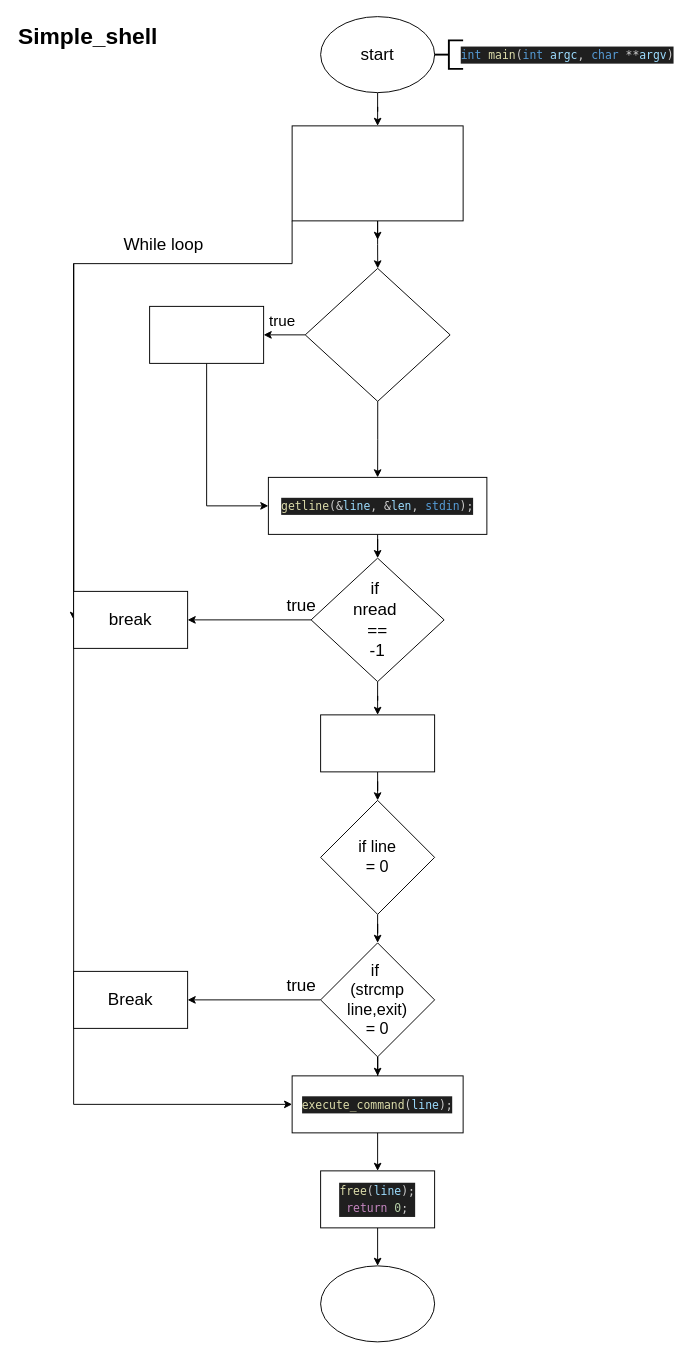
Some shapes in this 690 by 1359 pixel diagram are drawn without their labels. The shapes that lost their labels are listed below. From the top down, each one's box as (x1, y1, x2, y2) in pixels, then its label:
(291, 125, 463, 221): size_t len = 0 ; ssize_t nread ; char * line = NULL ; program_name = argv [ 0 ];
(149, 305, 264, 363): show_prompt ();
(304, 267, 450, 401): if interactive mode
(320, 714, 435, 772): remove \n
(320, 1265, 435, 1342): end
